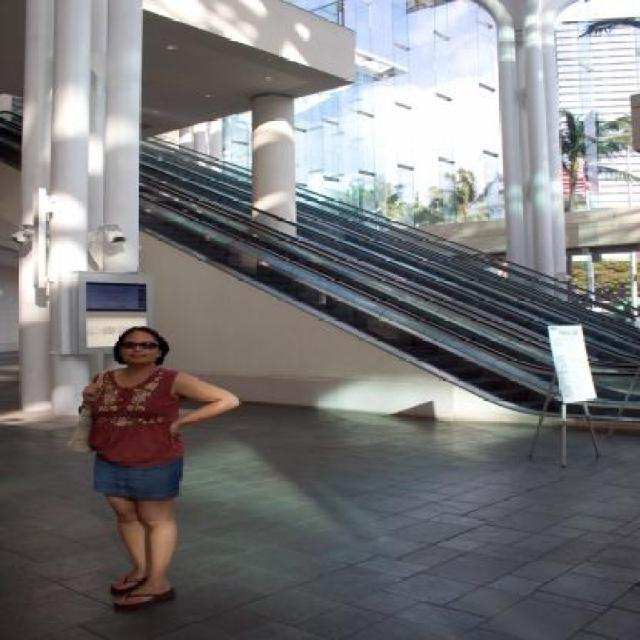stair: (140, 206, 558, 411)
